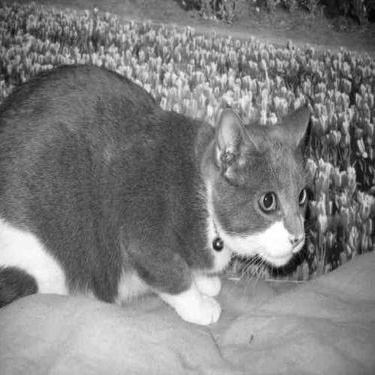cat: (3, 63, 312, 326)
